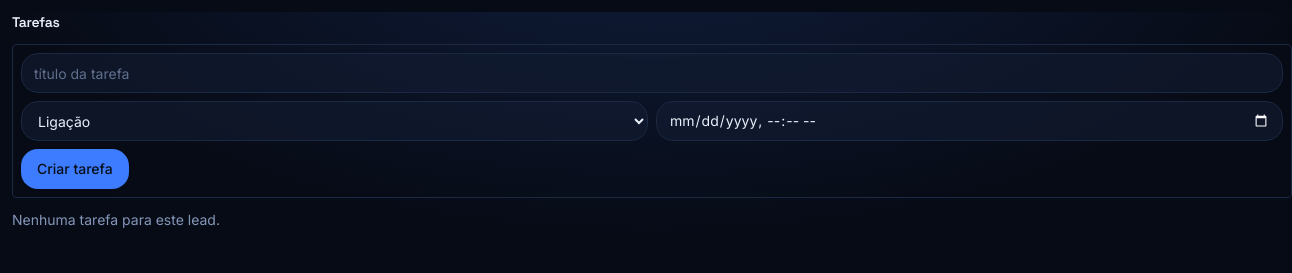
it: PainelTarefas › prazo invalido mostra a mensagem de prazo e nao deixa o botao travado
In the field with placeholder "título da tarefa": (652, 73) [21,53,1283,93], type "Ligar para o cliente"
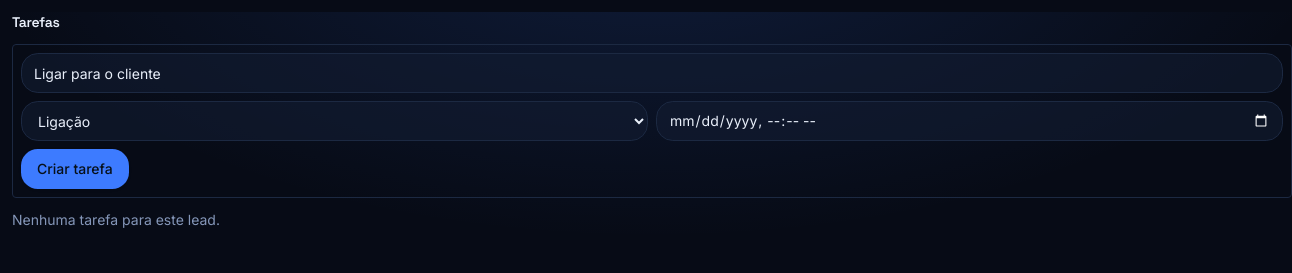
Click the button "Criar tarefa": click(75, 169) [21,149,129,189]
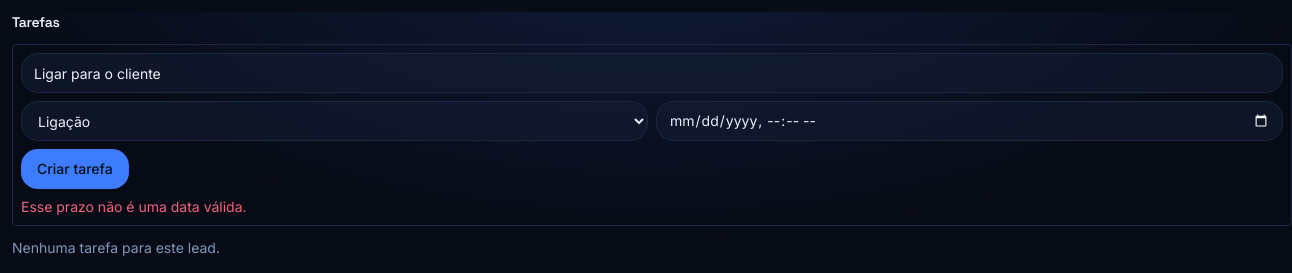
Expected: the text "Esse prazo não é uma data válida." is shown, [21,198,247,215]
